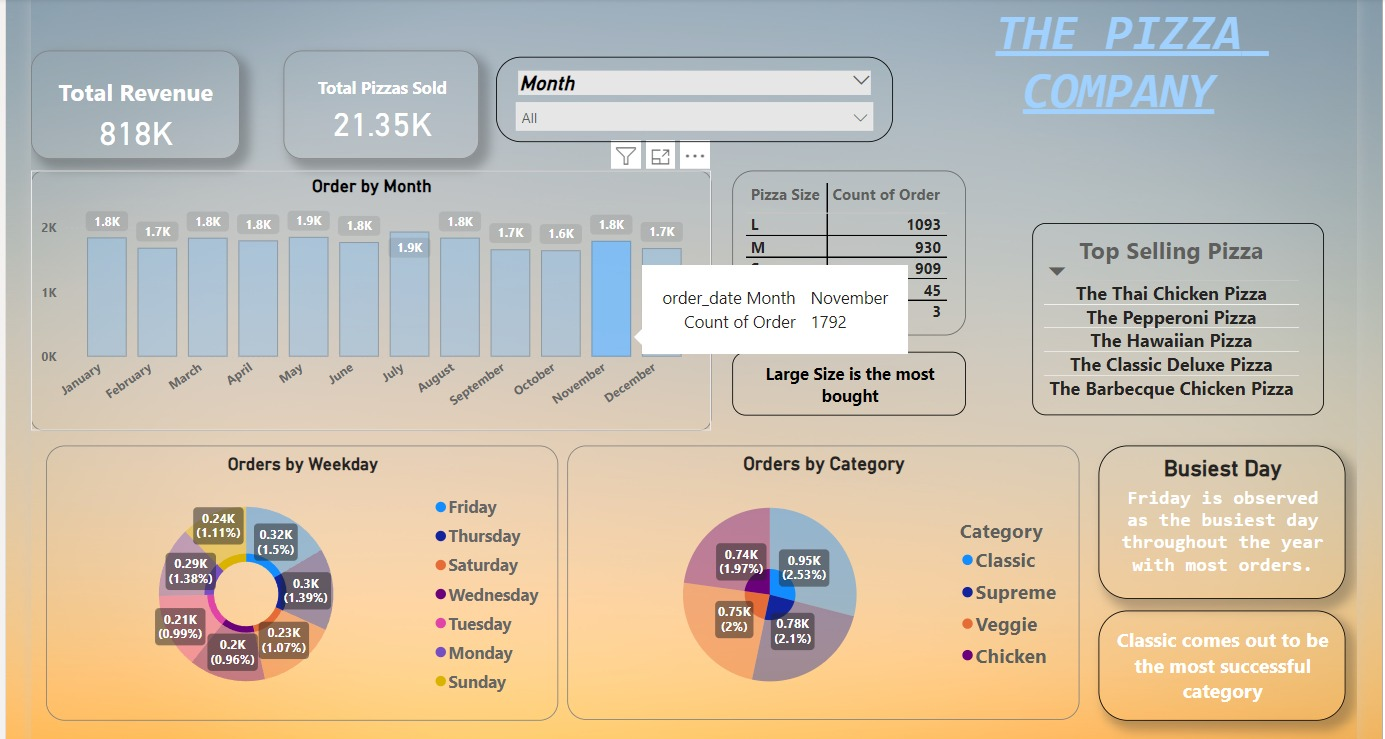

This screenshot's page, from the dashboard's own definition file:
{"tool":"powerbi","page":{"name":"Page 1","canvas":[1280,720],"ordinal":0},"visuals":[{"type":"cardVisual","fields":{"Data":["Pizza Sales.Total Revenue"]},"box":[0,50.9,201.9,104.9],"z":0},{"type":"cardVisual","fields":{"Data":["Pizza Sales.Total Pizzas Sold"]},"box":[243.2,50.9,189.1,104.9],"z":1000},{"type":"clusteredColumnChart","title":"Order by Month ","fields":{"Category":["Pizza Sales.order_date.Variation.Date Hierarchy.Month"],"Y":["Count(Pizza Sales.order_id)"]},"box":[0,166.9,656.4,251.1],"z":2000},{"type":"donutChart","title":"Orders by Weekday","fields":{"Category":["Pizza Sales.Custom"],"Y":["Count(Pizza Sales.order_id)"]},"box":[14.3,432.3,494.3,265.4],"z":3000},{"type":"pieChart","title":"Orders by Category","fields":{"Category":["Pizza Sales.pizza_category"],"Y":["Count(Pizza Sales.order_id)"]},"box":[518,432,494,265],"z":4000},{"type":"textbox","title":"Busiest Day  ","box":[1029.9,432.3,238.4,147.8],"z":5000},{"type":"textbox","title":"Busiest Day  ","box":[1029.9,591.3,238.4,106.5],"z":6000},{"type":"tableEx","fields":{"Values":["Pizza Sales.Pizza Size","Count(Pizza Sales.Order)"]},"box":[677.1,166.9,225.7,158.9],"z":7000},{"type":"textbox","box":[677.1,341.7,225.7,62],"z":8000},{"type":"tableEx","fields":{"Values":["Table.Column1"]},"box":[966.4,217.7,281.3,186],"z":9000},{"type":"slicer","fields":{"Values":["Pizza Sales.order_date.Variation.Date Hierarchy.Month"]},"box":[448.2,57.2,383,82.6],"z":10000},{"type":"textbox","box":[851.9,0,395.8,155.8],"z":11000}]}

Visuals, with their boxes on the page's 1280x720 design canvas (x1, y1, x2, y2). These are canvas units, not pixel positions in the 1385x739 screenshot, which may show the page scaled, cropped or inside an application window:
cardVisual - Pizza Sales.Total Revenue: 0:51:202:156
cardVisual - Pizza Sales.Total Pizzas Sold: 243:51:432:156
"Order by Month " clusteredColumnChart: 0:167:656:418
"Orders by Weekday" donutChart: 14:432:509:698
"Orders by Category" pieChart: 518:432:1012:697
"Busiest Day  " textbox: 1030:432:1268:580
"Busiest Day  " textbox: 1030:591:1268:698
tableEx - Pizza Sales.Pizza Size x Count(Pizza Sales.Order): 677:167:903:326
textbox: 677:342:903:404
tableEx - Table.Column1: 966:218:1248:404
slicer - Pizza Sales.order_date.Variation.Date Hierarchy.Month: 448:57:831:140
textbox: 852:0:1248:156
